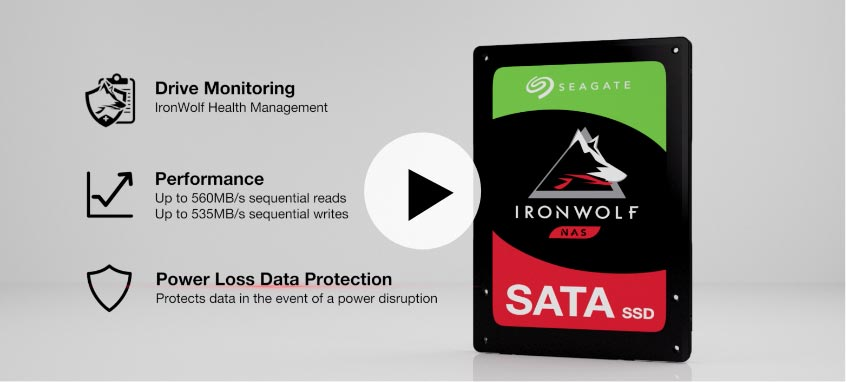seagate-hdd-240gb: (469, 29, 711, 348)
